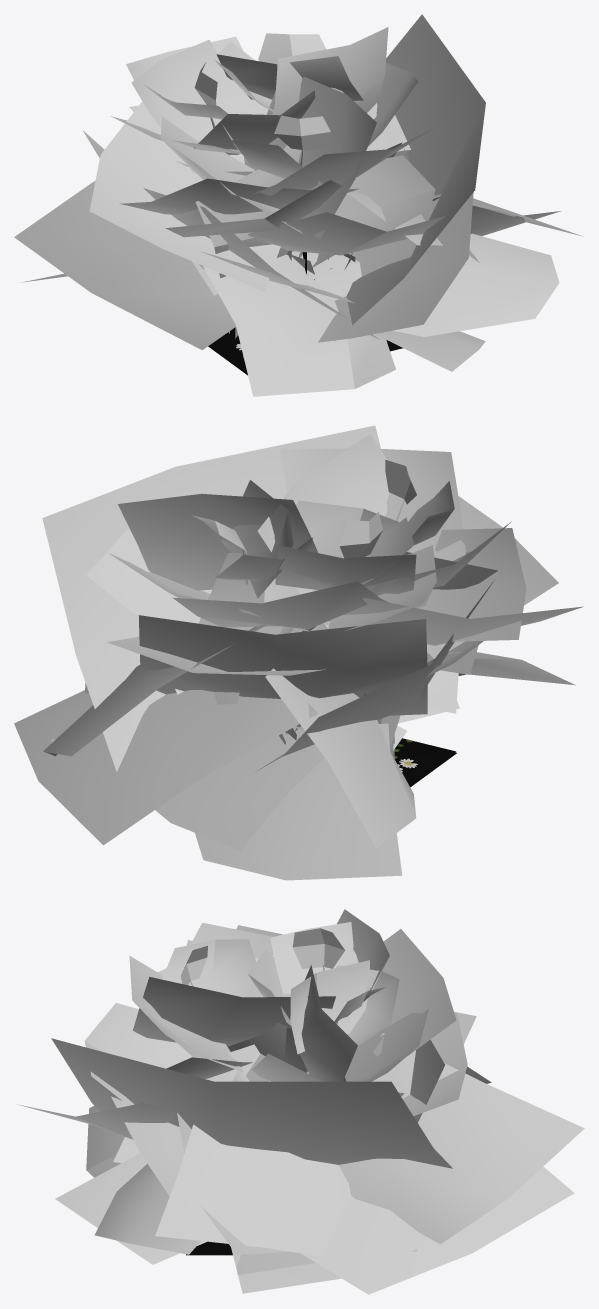
Rendered from Plants_5.fbx.
3 views of the same model, one above another, from view 1: azimuth 30°, elevation 25°; view 2: azimuth 150°, elevation 25°; view 3: azimuth 270°, elevation 25° (orthographic). The views are drawn at different scales.
Visible parts, largest first — view 1: Plant_5_17, Plant_5_2; view 2: Plant_5_17, Plant_5_7; view 3: Plant_5_17.
Part boxes in pixels (<box>): Plant_5_17: <box>14,14,583,396</box>; Plant_5_2: <box>211,332,389,356</box>; Plant_5_17: <box>14,425,583,880</box>; Plant_5_7: <box>394,738,455,779</box>; Plant_5_17: <box>17,909,584,1294</box>.
Bounding box in the file's own units: 442 × 244 × 483.
